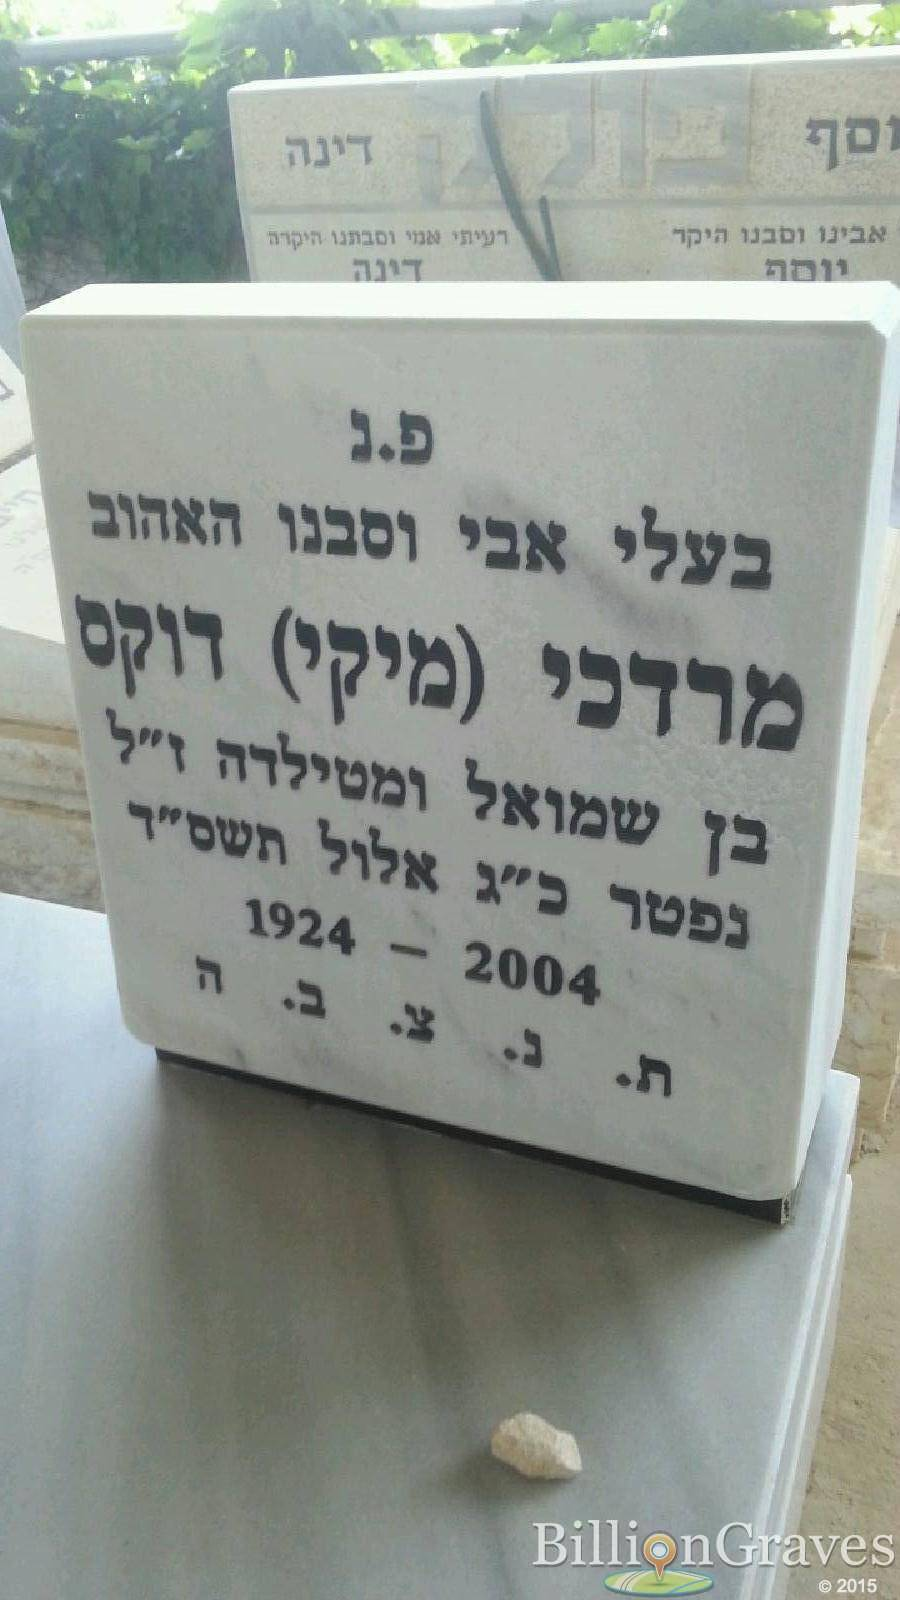upright: (8, 253, 900, 1224)
